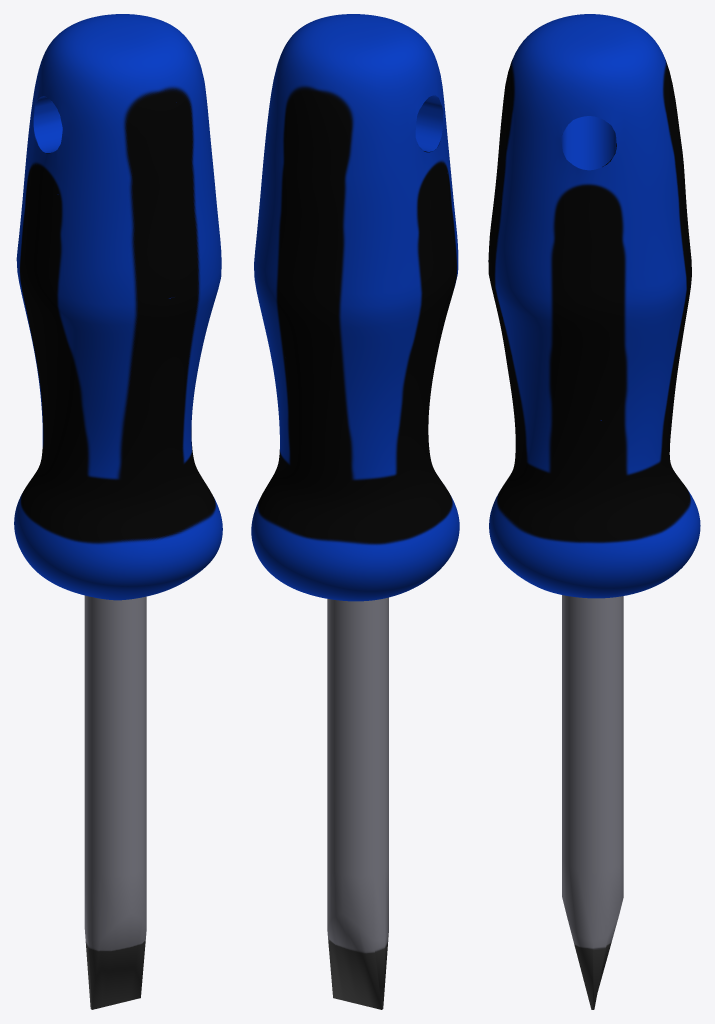
Rendered from Csavarhúzó egyens szines v2.fbx.
3 renders of one model, left to right at view 1: azimuth 30°, elevation 25°; view 2: azimuth 150°, elevation 25°; view 3: azimuth 270°, elevation 25°, orthographic.
Parts seen in each view (by area): view 1: Csavarhuz_lapos; view 2: Csavarhuz_lapos; view 3: Csavarhuz_lapos.
Part boxes in pixels (x1,y1,x2,y2): Csavarhuz_lapos: [14, 14, 222, 1009]; Csavarhuz_lapos: [251, 14, 459, 1009]; Csavarhuz_lapos: [488, 14, 700, 1009].
Bounding box in the file's own units: 178 × 934 × 185.
2 materials, 2 textured.
